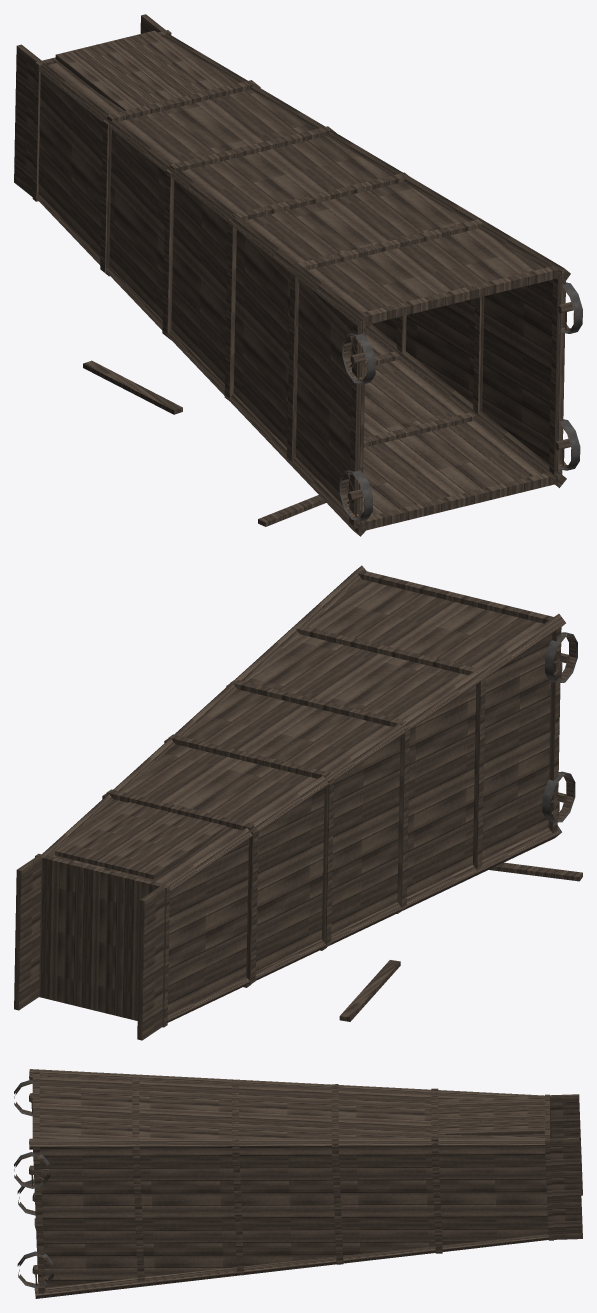
File: SiegeTower_Wreck_1_LOD1.gltf
3 views of the same model, one above another, from view 1: azimuth 30°, elevation 25°; view 2: azimuth 150°, elevation 25°; view 3: azimuth 270°, elevation 25° (orthographic). The views are drawn at different scales.
Parts seen in each view (by area): view 1: SiegeTower_Wreck_1_LOD1; view 2: SiegeTower_Wreck_1_LOD1; view 3: SiegeTower_Wreck_1_LOD1.
Part boxes in pixels (left/top/right/bottom): SiegeTower_Wreck_1_LOD1: left=14, top=14, right=582, bottom=536; SiegeTower_Wreck_1_LOD1: left=14, top=565, right=582, bottom=1040; SiegeTower_Wreck_1_LOD1: left=14, top=1069, right=582, bottom=1298.
Bounding box in the file's own units: 6.6 × 5.16 × 16.58.
Materials: 2 (2 with a texture image).
